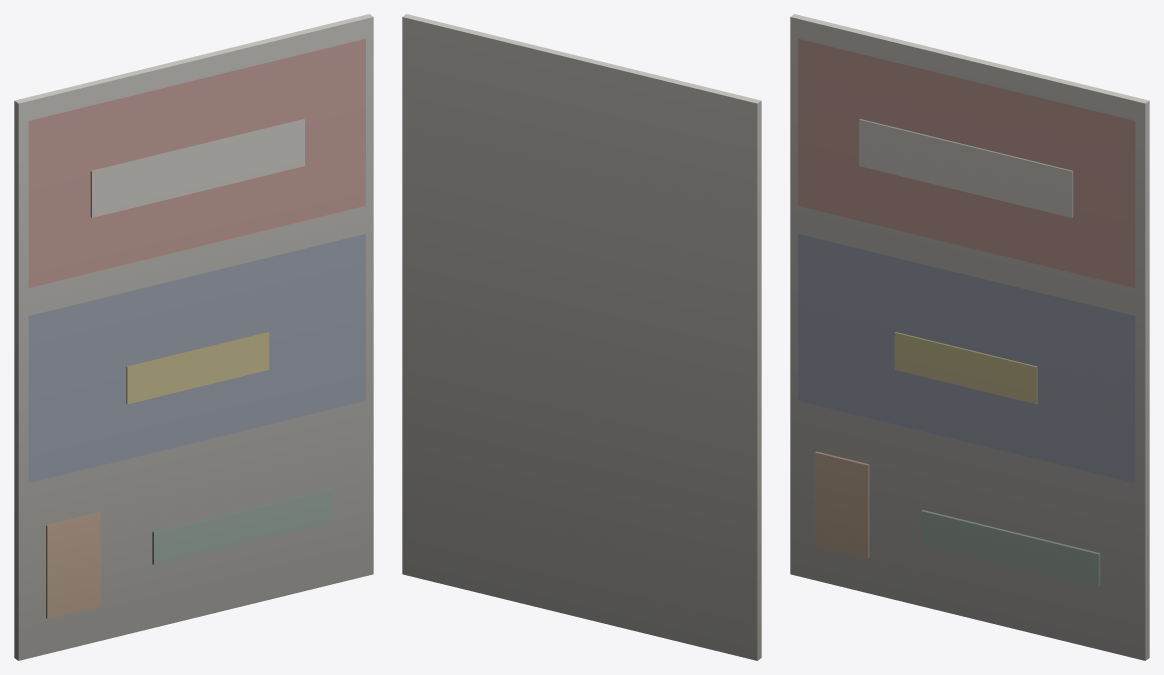
File: wallad.lod1.glb
The picture shows the model from 3 angles, left to right: view 1: azimuth 30°, elevation 25°; view 2: azimuth 150°, elevation 25°; view 3: azimuth 330°, elevation 25°; orthographic projection.
Size of the model in its own units: 4 by 6 by 0.125.
